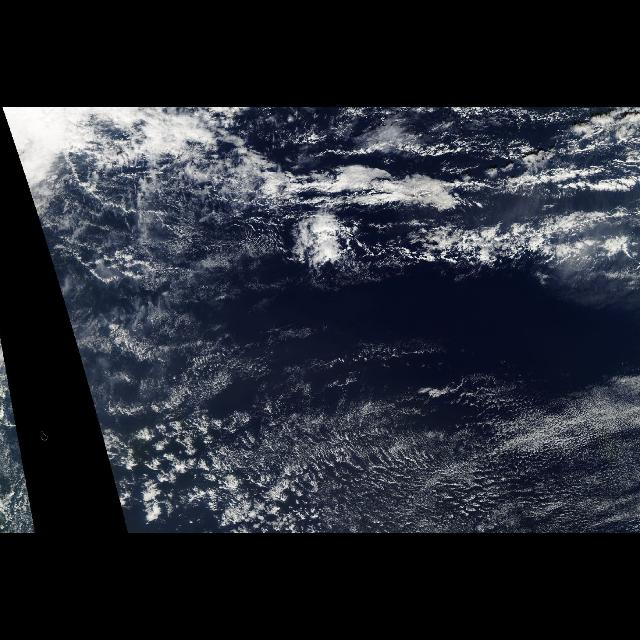Fish: (298, 153, 636, 281)
Sugar: (324, 373, 638, 533)
